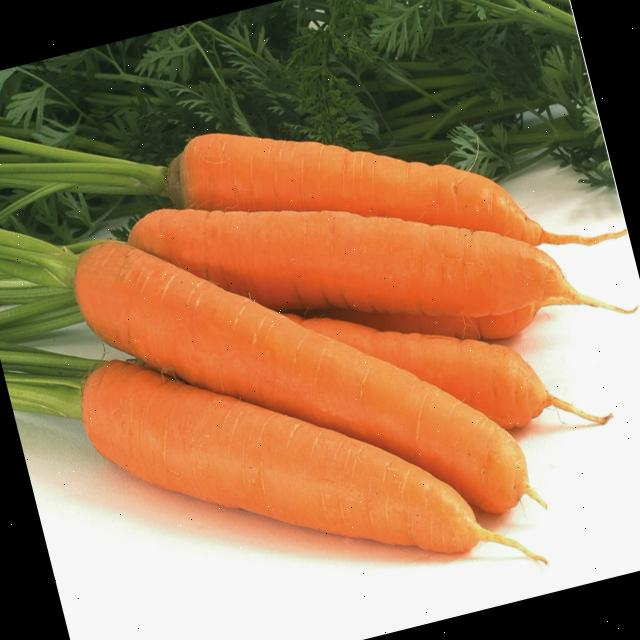carrot: (73, 240, 528, 512), (81, 359, 490, 552), (129, 208, 580, 317), (167, 132, 548, 245), (299, 317, 552, 429)
